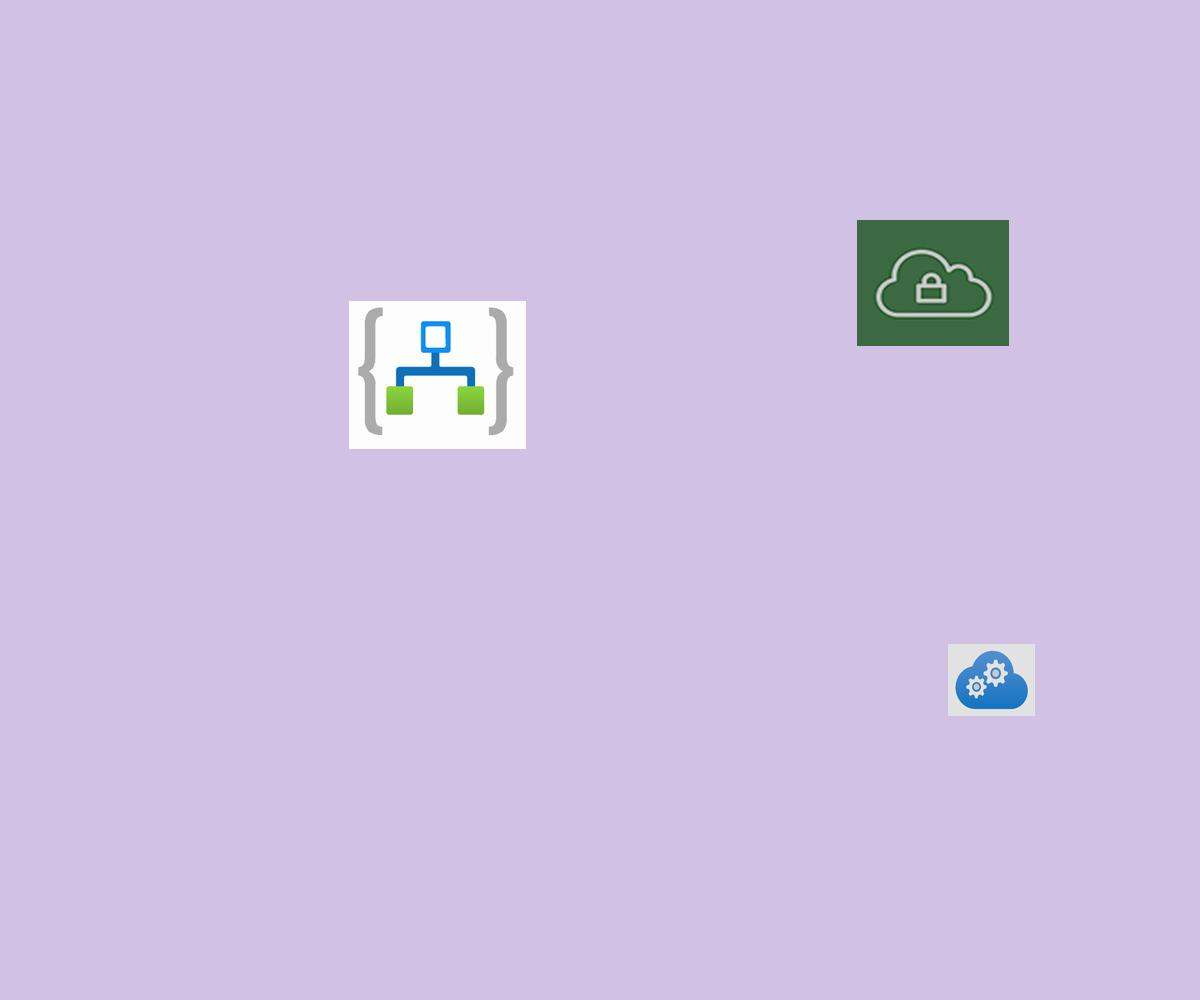AWS-Private_vpc: (857, 220, 1009, 346)
Azure_cloud_services: (948, 644, 1035, 716)
Azure_integration-204-Logic-Apps: (349, 301, 526, 449)
